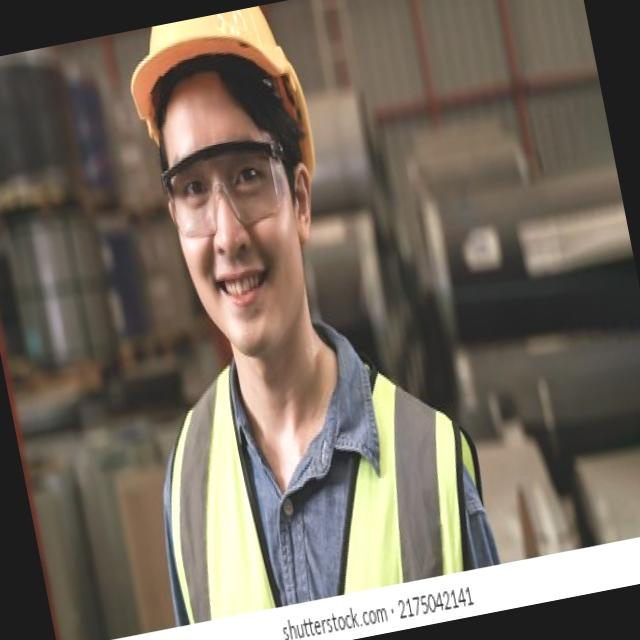goggles: (146, 115, 308, 250)
helmet: (110, 0, 345, 146)
vest: (136, 301, 504, 624)
